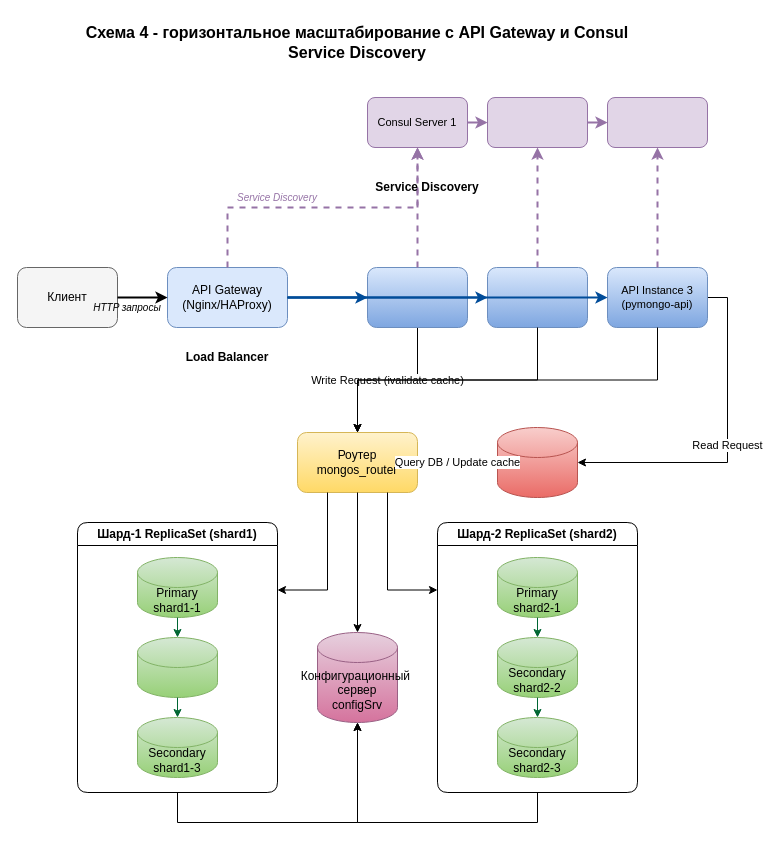
Some shapes in this 780 by 848 pixel diagram are drawn without their labels. Here are the shapes that lost their labels. From the top down, the centre of each, then its label:
At point 537,122: "Consul Server 2".
At point 657,122: "Consul Server 3".
At point 417,297: "API Instance 1 (pymongo-api)".
At point 537,297: "API Instance 2 (pymongo-api)".
At point 537,462: "Кэш redis".
At point 177,667: "Secondary shard1-2".
